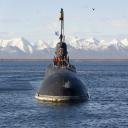submarine: (35, 5, 93, 104)
